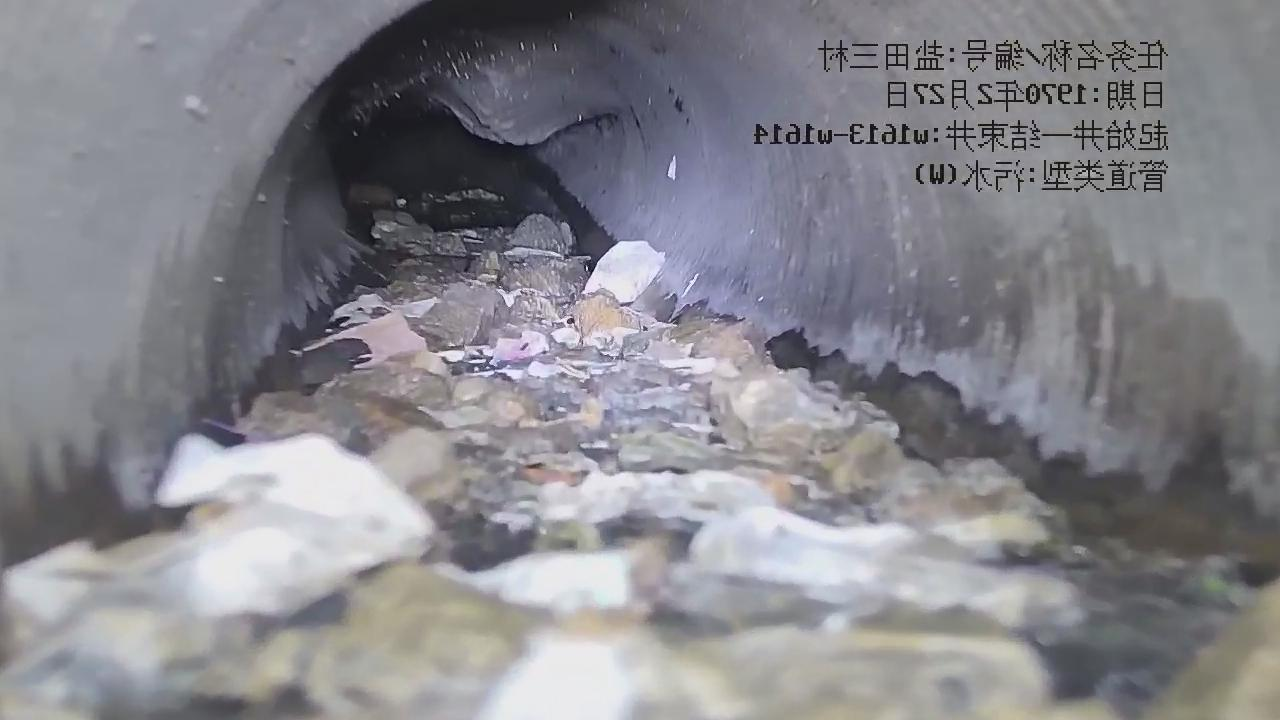BX: (318, 35, 635, 165)
CJ: (1, 186, 1280, 719)
